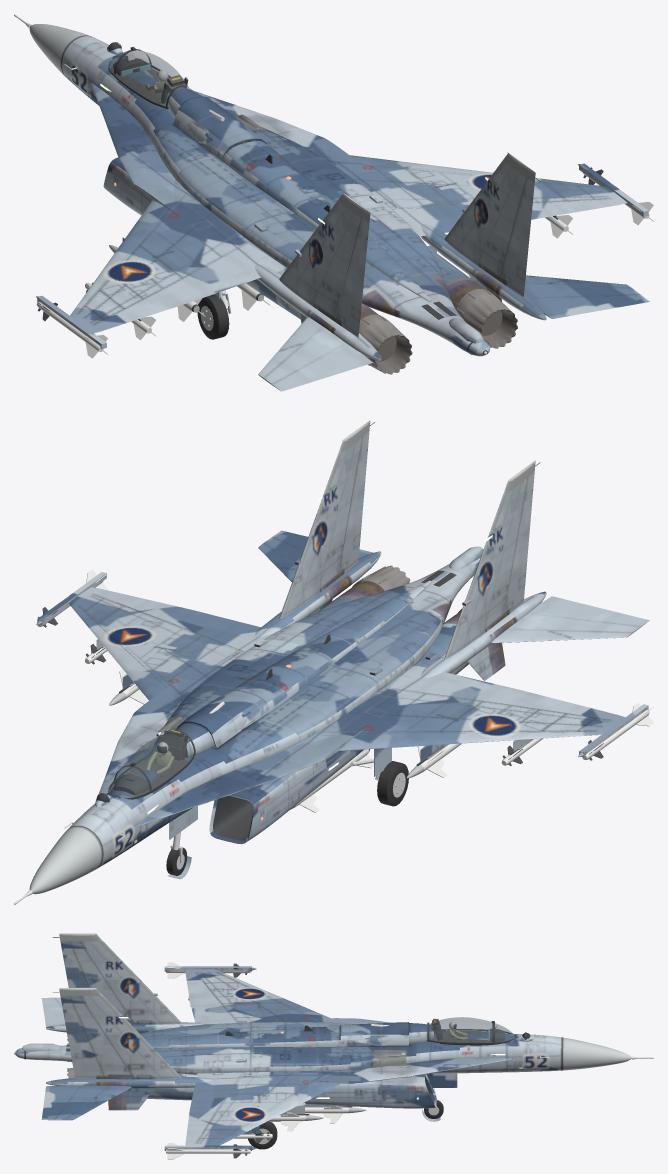
3 renders of one model, top to bottom at view 1: azimuth 30°, elevation 25°; view 2: azimuth 150°, elevation 25°; view 3: azimuth 270°, elevation 25°, orthographic. The views are drawn at different scales.
Visible parts, largest first — view 1: airframe, stabL, flapL, stabR, abrake, canopy, flapR, detail, rudR, rudL, lefL, gearML (+3 smaller); view 2: airframe, stabL, flapL, canopy, flapR, lefL, abrake, detail, lefR, gearML, cockpit, rudL (+5 smaller); view 3: airframe, stabR, flapR, canopy, rudR, abrake, flapL, detail, lefR, rudL, r73TR, cockpit (+7 smaller).
Part boxes in pixels (x1,y1,x2,y2): airframe: [14, 14, 648, 374]; stabL: [258, 317, 372, 391]; flapL: [117, 244, 280, 322]; stabR: [524, 275, 649, 318]; abrake: [173, 96, 267, 155]; canopy: [110, 50, 189, 105]; flapR: [393, 201, 588, 236]; detail: [61, 35, 540, 365]; rudR: [501, 198, 532, 292]; rudL: [335, 239, 366, 332]; lefL: [73, 187, 181, 312]; gearML: [197, 290, 231, 339]; airframe: [14, 420, 648, 904]; stabL: [491, 596, 649, 643]; flapL: [390, 667, 588, 715]; canopy: [110, 734, 192, 797]; flapR: [117, 595, 277, 651]; lefL: [312, 731, 593, 751]; abrake: [177, 690, 267, 748]; detail: [64, 422, 540, 866]; lefR: [73, 605, 181, 707]; gearML: [350, 748, 408, 806]; cockpit: [113, 730, 188, 794]; rudL: [504, 499, 532, 613]; airframe: [15, 933, 653, 1150]; stabR: [41, 1085, 131, 1120]; flapR: [186, 1074, 240, 1133]; canopy: [429, 1017, 514, 1042]; rudR: [63, 1012, 103, 1076]; abrake: [340, 1022, 408, 1045]; flapL: [186, 980, 236, 1023]; detail: [14, 937, 562, 1134]; lefR: [218, 1072, 342, 1143]; rudL: [63, 958, 90, 987]; r73TR: [166, 1143, 250, 1159]; cockpit: [431, 1018, 505, 1041].
Size of what is drawn, in the model's own units: 15.1 by 6.01 by 21.95.
Materials: 18 (1 with a texture image).
